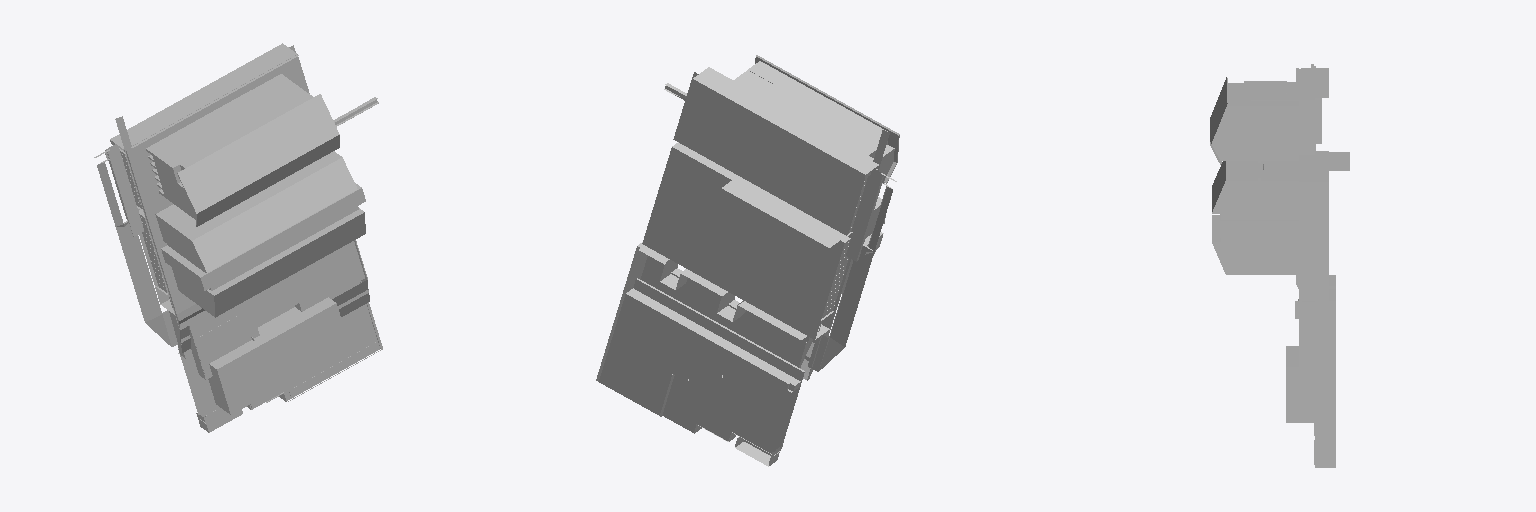
File: oldMPMassing1.obj
3 views of the same model, side by side, from view 1: azimuth 30°, elevation 25°; view 2: azimuth 150°, elevation 25°; view 3: azimuth 270°, elevation 25° (orthographic).
Bounding box in the file's own units: 352 × 428 × 148.